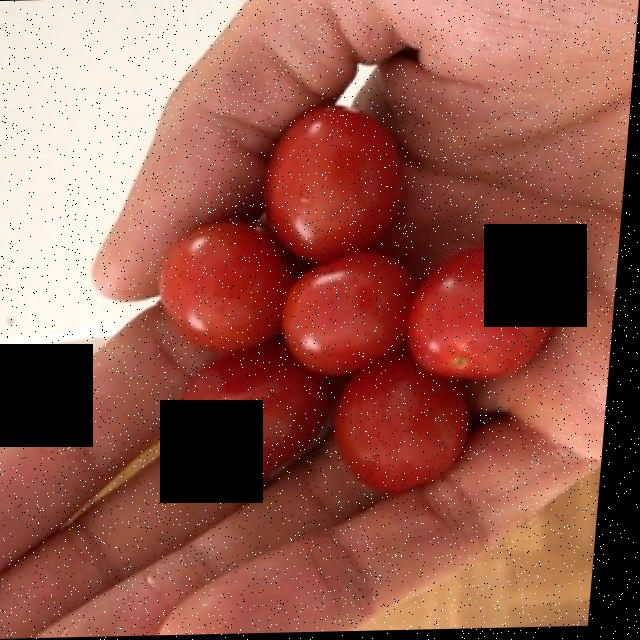tomato-raw: (165, 114, 552, 483)
